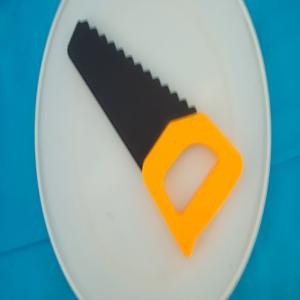serrote: (66, 19, 244, 259)
